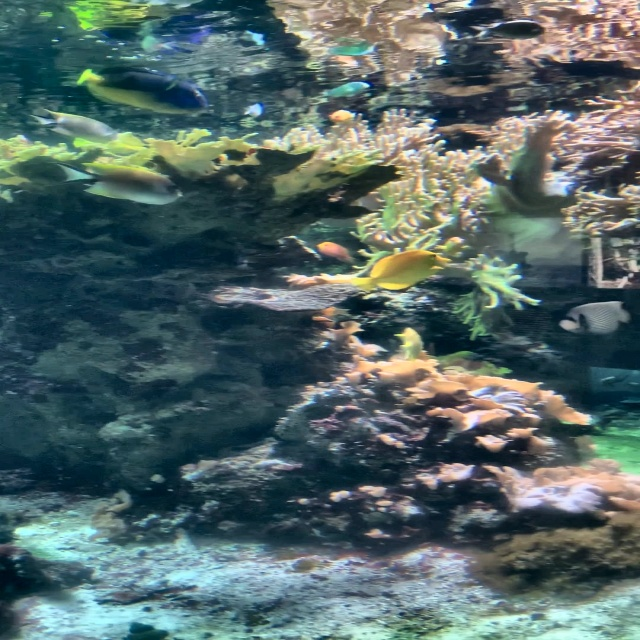fish: (41, 154, 191, 209), (73, 67, 213, 117), (17, 109, 130, 149), (350, 250, 451, 293), (559, 300, 632, 335), (303, 238, 359, 267), (471, 20, 542, 38)
